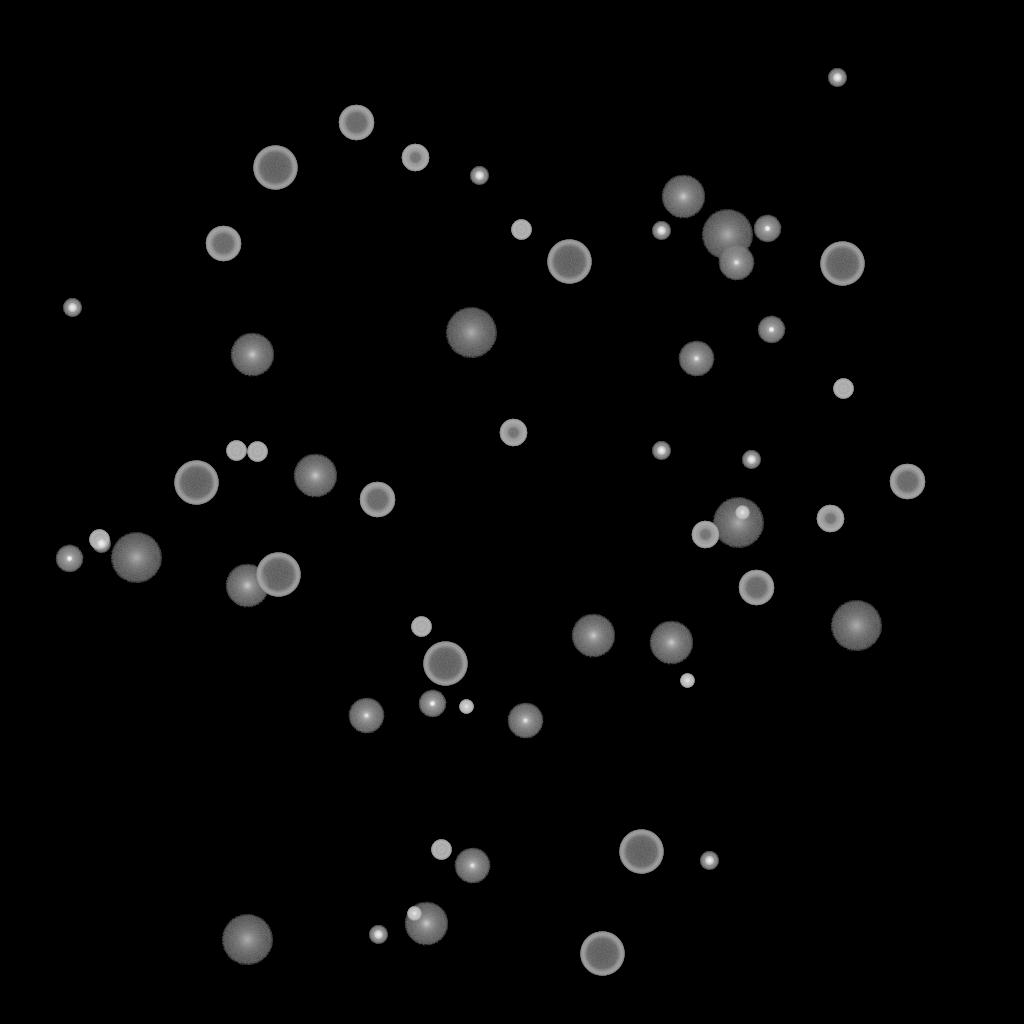depth:-10: (55, 545, 83, 573), (753, 215, 781, 243), (757, 316, 785, 344), (418, 690, 446, 718)
depth:-20: (700, 852, 718, 870), (369, 926, 387, 944), (742, 451, 760, 469), (828, 69, 846, 87), (63, 299, 81, 317), (470, 167, 488, 185), (92, 535, 110, 553), (652, 222, 670, 240), (652, 442, 670, 460)
depth:-30: (735, 506, 749, 520), (459, 700, 473, 714), (407, 907, 421, 921), (680, 674, 694, 688)
depth:-40: (431, 840, 451, 860), (226, 441, 246, 461), (411, 617, 431, 637), (247, 442, 267, 462), (511, 220, 531, 240), (833, 379, 853, 399), (89, 530, 109, 550)
depth:-50: (816, 505, 844, 533), (401, 144, 429, 172), (691, 521, 719, 549), (499, 419, 527, 447)
depth:-60: (359, 482, 395, 518), (738, 570, 774, 606), (889, 464, 925, 500), (338, 105, 374, 141), (205, 226, 241, 262)
depth:-70: (423, 642, 467, 686), (547, 240, 591, 284), (256, 553, 300, 597), (253, 146, 297, 190), (174, 461, 218, 505), (580, 932, 624, 976), (619, 830, 663, 874), (820, 242, 864, 286)
depth:0: (718, 245, 754, 281), (678, 341, 714, 377), (454, 848, 490, 884), (348, 698, 384, 734), (507, 703, 543, 739)
depth:10: (225, 564, 269, 608), (649, 621, 693, 665), (293, 454, 337, 498), (571, 614, 615, 658), (661, 175, 705, 219), (230, 333, 274, 377), (404, 902, 448, 946)
depth:20: (712, 498, 764, 548), (110, 533, 162, 583), (701, 210, 753, 260), (830, 601, 882, 651), (445, 308, 497, 358), (221, 915, 273, 965)
